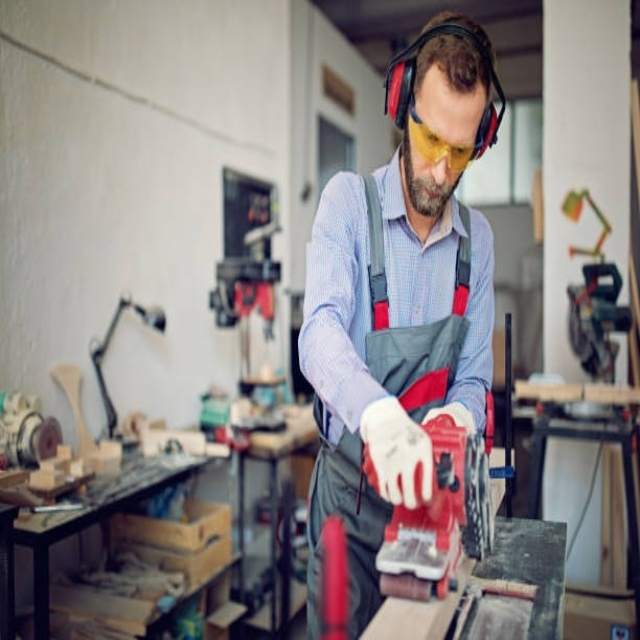Gafas: (407, 99, 485, 176)
Guantes: (359, 396, 435, 508), (423, 400, 476, 439)
Sin_mascara: (419, 171, 450, 215)
